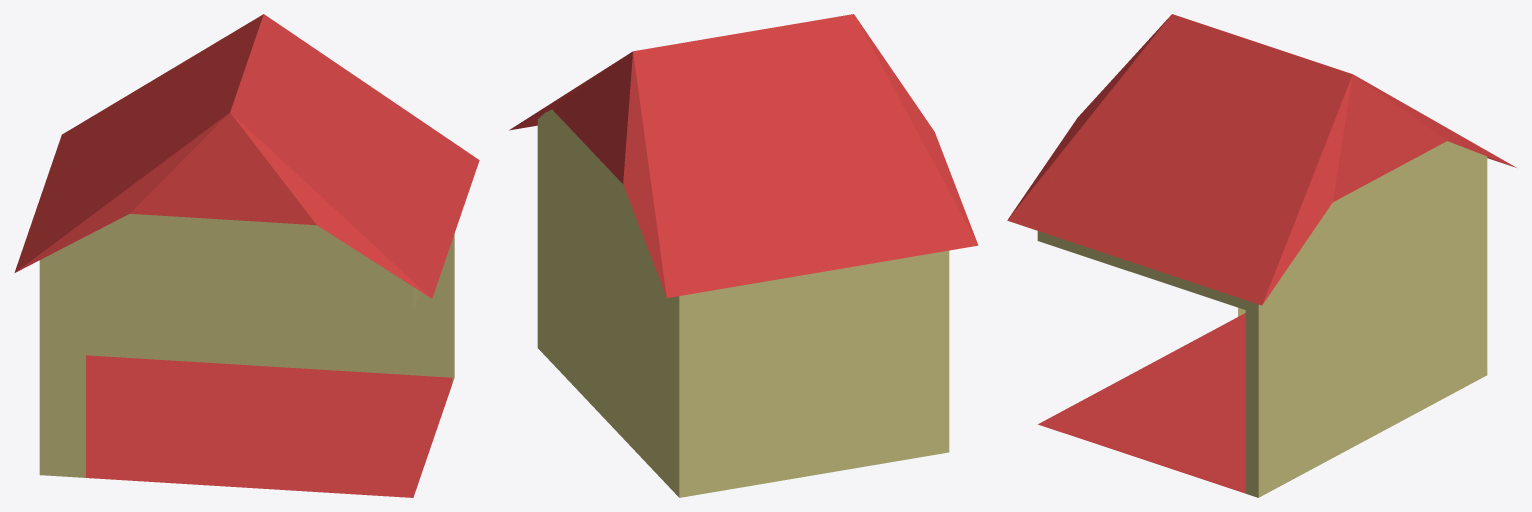
The picture shows the model from 3 angles, left to right: view 1: azimuth 30°, elevation 25°; view 2: azimuth 150°, elevation 25°; view 3: azimuth 270°, elevation 25°; orthographic projection. The views are drawn at different scales.
Visible parts, largest first — view 1: group_5, group_3, group_6, group_4; view 2: group_5, group_3, group_4; view 3: group_5, group_3, group_6, group_4.
Boxes of the visible parts, x1,y1,x2,y2 form: group_5: (39, 214, 454, 477); group_3: (15, 14, 454, 272); group_6: (86, 355, 452, 497); group_4: (14, 81, 479, 298); group_5: (537, 109, 949, 497); group_3: (509, 14, 977, 269); group_4: (510, 82, 978, 297); group_5: (1037, 141, 1487, 497); group_3: (1038, 14, 1513, 276); group_6: (1038, 313, 1245, 493); group_4: (1007, 82, 1516, 305).
Size of the model in its own units: 18.13 by 17.62 by 13.54.
